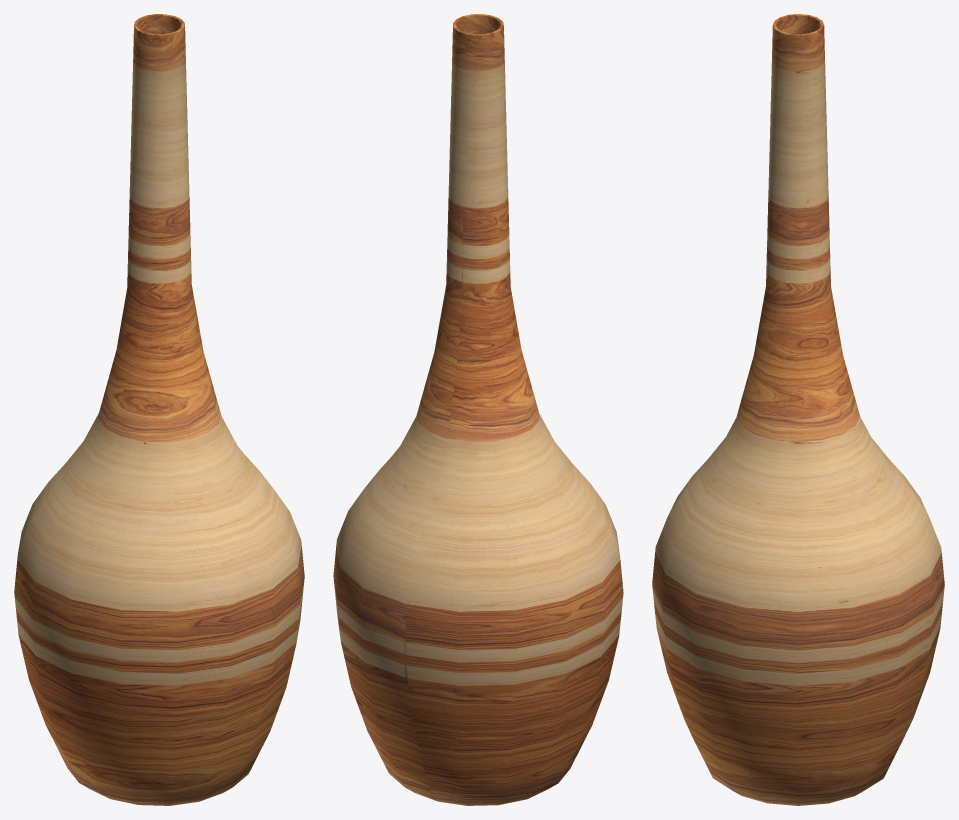
Rendered from Vase 3.FBX.
3 renders of one model, left to right at view 1: azimuth 30°, elevation 25°; view 2: azimuth 150°, elevation 25°; view 3: azimuth 270°, elevation 25°, orthographic.
Visible parts, largest first — view 1: Vase 3; view 2: Vase 3; view 3: Vase 3.
Boxes of the visible parts, x1,y1,x2,y2 form: Vase 3: (14, 14, 304, 805); Vase 3: (333, 14, 623, 805); Vase 3: (652, 14, 944, 805).
Size of the model in its own units: 36.76 by 104 by 36.76.
1 material, 1 textured.
